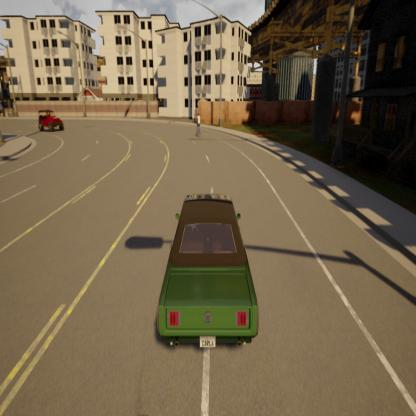Cars: (150, 181, 267, 361), (33, 102, 66, 132)
